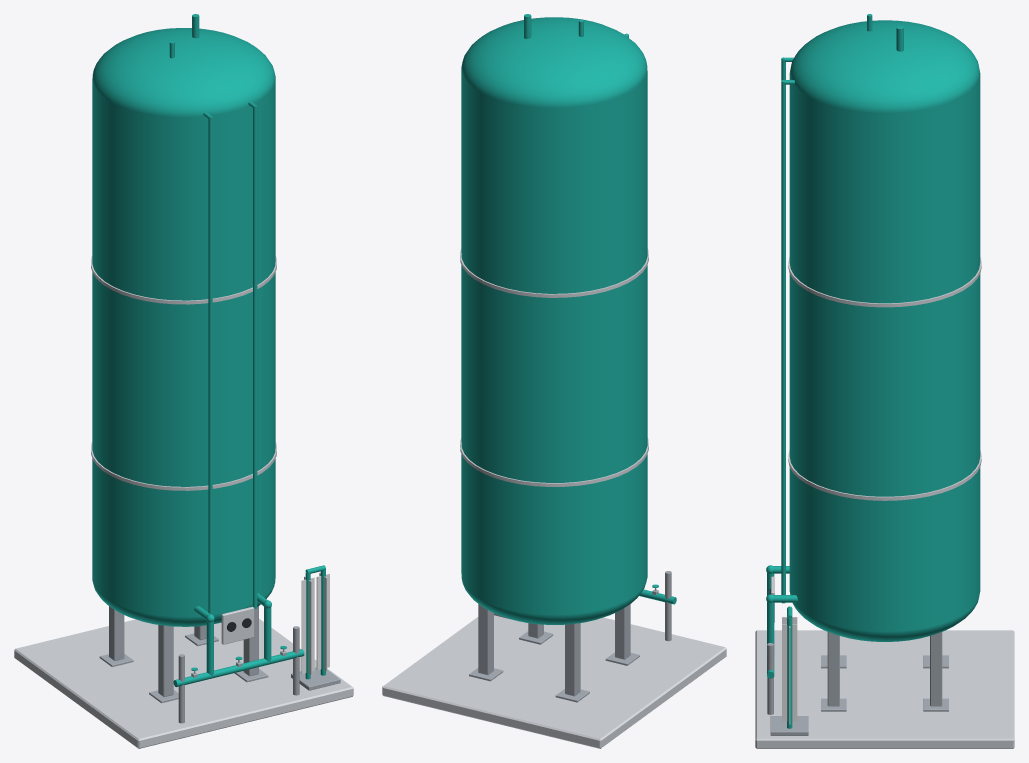
File: bulk-tank.glb
3 views of the same model, side by side, from view 1: azimuth 30°, elevation 25°; view 2: azimuth 150°, elevation 25°; view 3: azimuth 270°, elevation 25° (orthographic). The views are drawn at different scales.
Visible parts, largest first — view 1: bulk-tank; view 2: bulk-tank; view 3: bulk-tank.
Part boxes in pixels (left/top/right/bottom): bulk-tank: left=14, top=14, right=353, bottom=748; bulk-tank: left=382, top=14, right=726, bottom=748; bulk-tank: left=755, top=14, right=1014, bottom=748.
Size of the model in its own units: 3.4 by 9.8 by 3.4.
